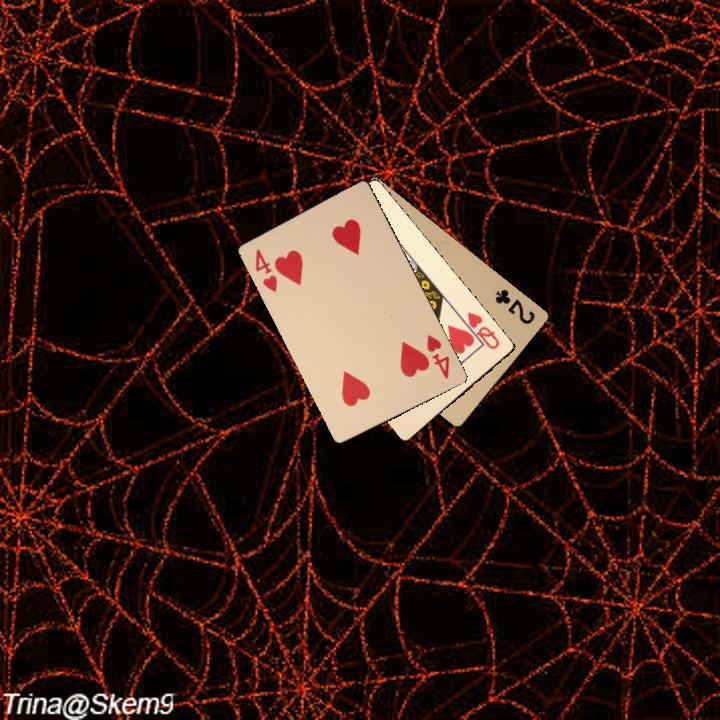2c: (491, 285, 538, 327)
4h: (422, 331, 452, 381), (251, 245, 280, 295)
Qh: (457, 308, 502, 352)
